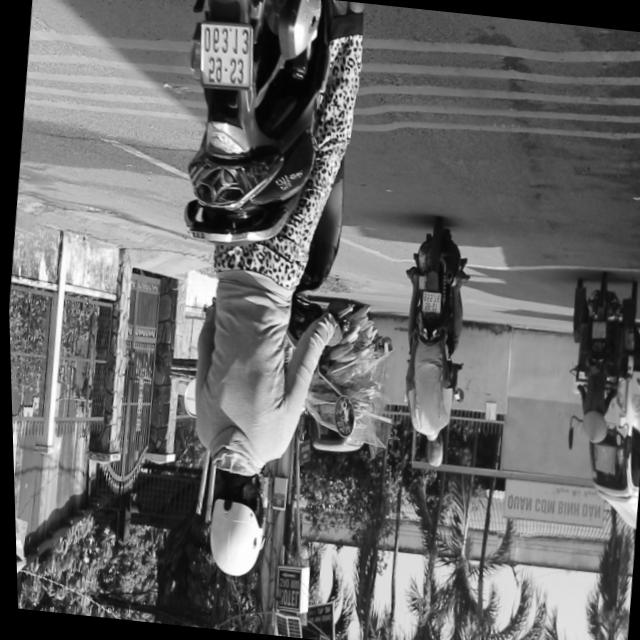helmet: (195, 458, 269, 582)
licenseplate: (129, 0, 393, 587), (381, 219, 476, 472)
motorcyclist: (420, 432, 442, 468)
nohelmet: (195, 24, 254, 91), (419, 292, 439, 315)
